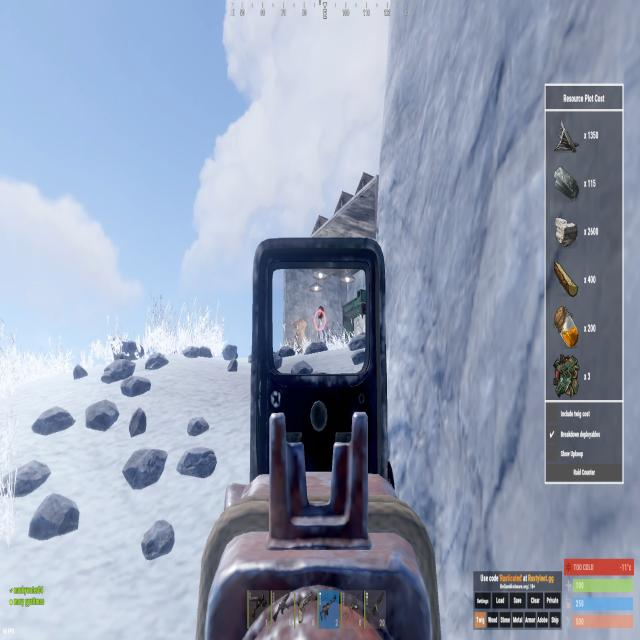Player: (317, 302, 332, 347)
